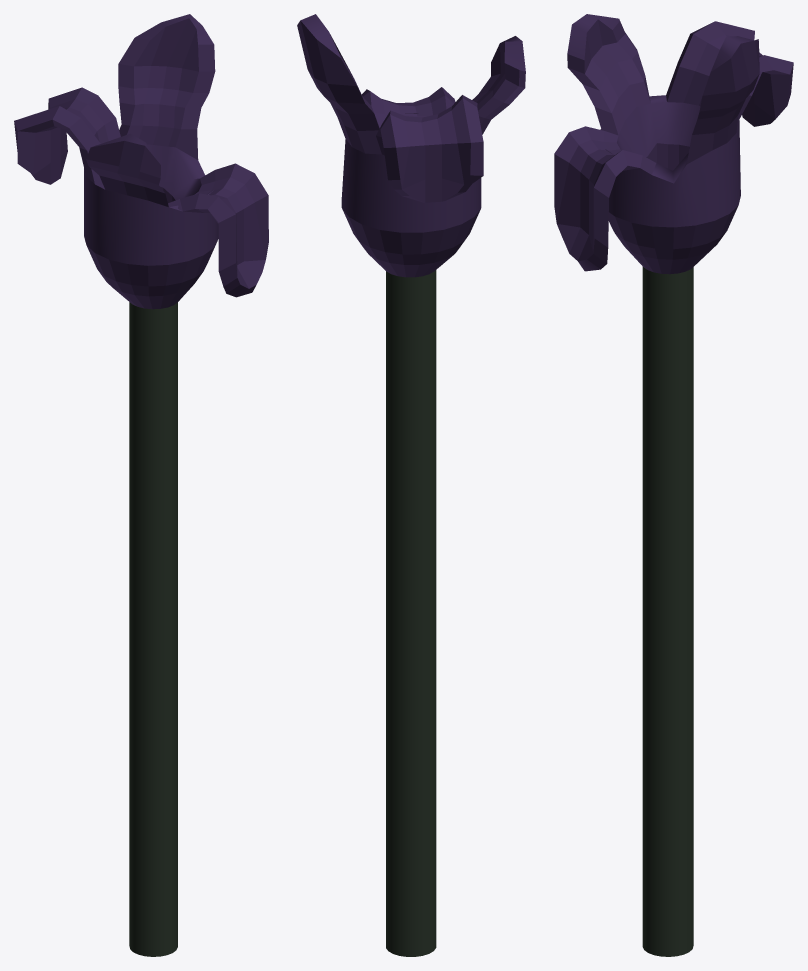
The model's file is iris.obj.
3 renders of one model, left to right at view 1: azimuth 30°, elevation 25°; view 2: azimuth 150°, elevation 25°; view 3: azimuth 270°, elevation 25°, orthographic. The views are drawn at different scales.
Parts seen in each view (by area): view 1: iris petals, stem2 iris; view 2: stem2 iris, iris petals; view 3: iris petals, stem2 iris.
Part boxes in pixels (x1,y1,x2,y2): iris petals: (14, 14, 268, 309); stem2 iris: (129, 302, 177, 956); stem2 iris: (386, 270, 436, 956); iris petals: (297, 14, 525, 277); iris petals: (554, 14, 793, 274); stem2 iris: (642, 267, 693, 956).
Size of the model in its own units: 0.9394 by 4.32 by 0.9961.
